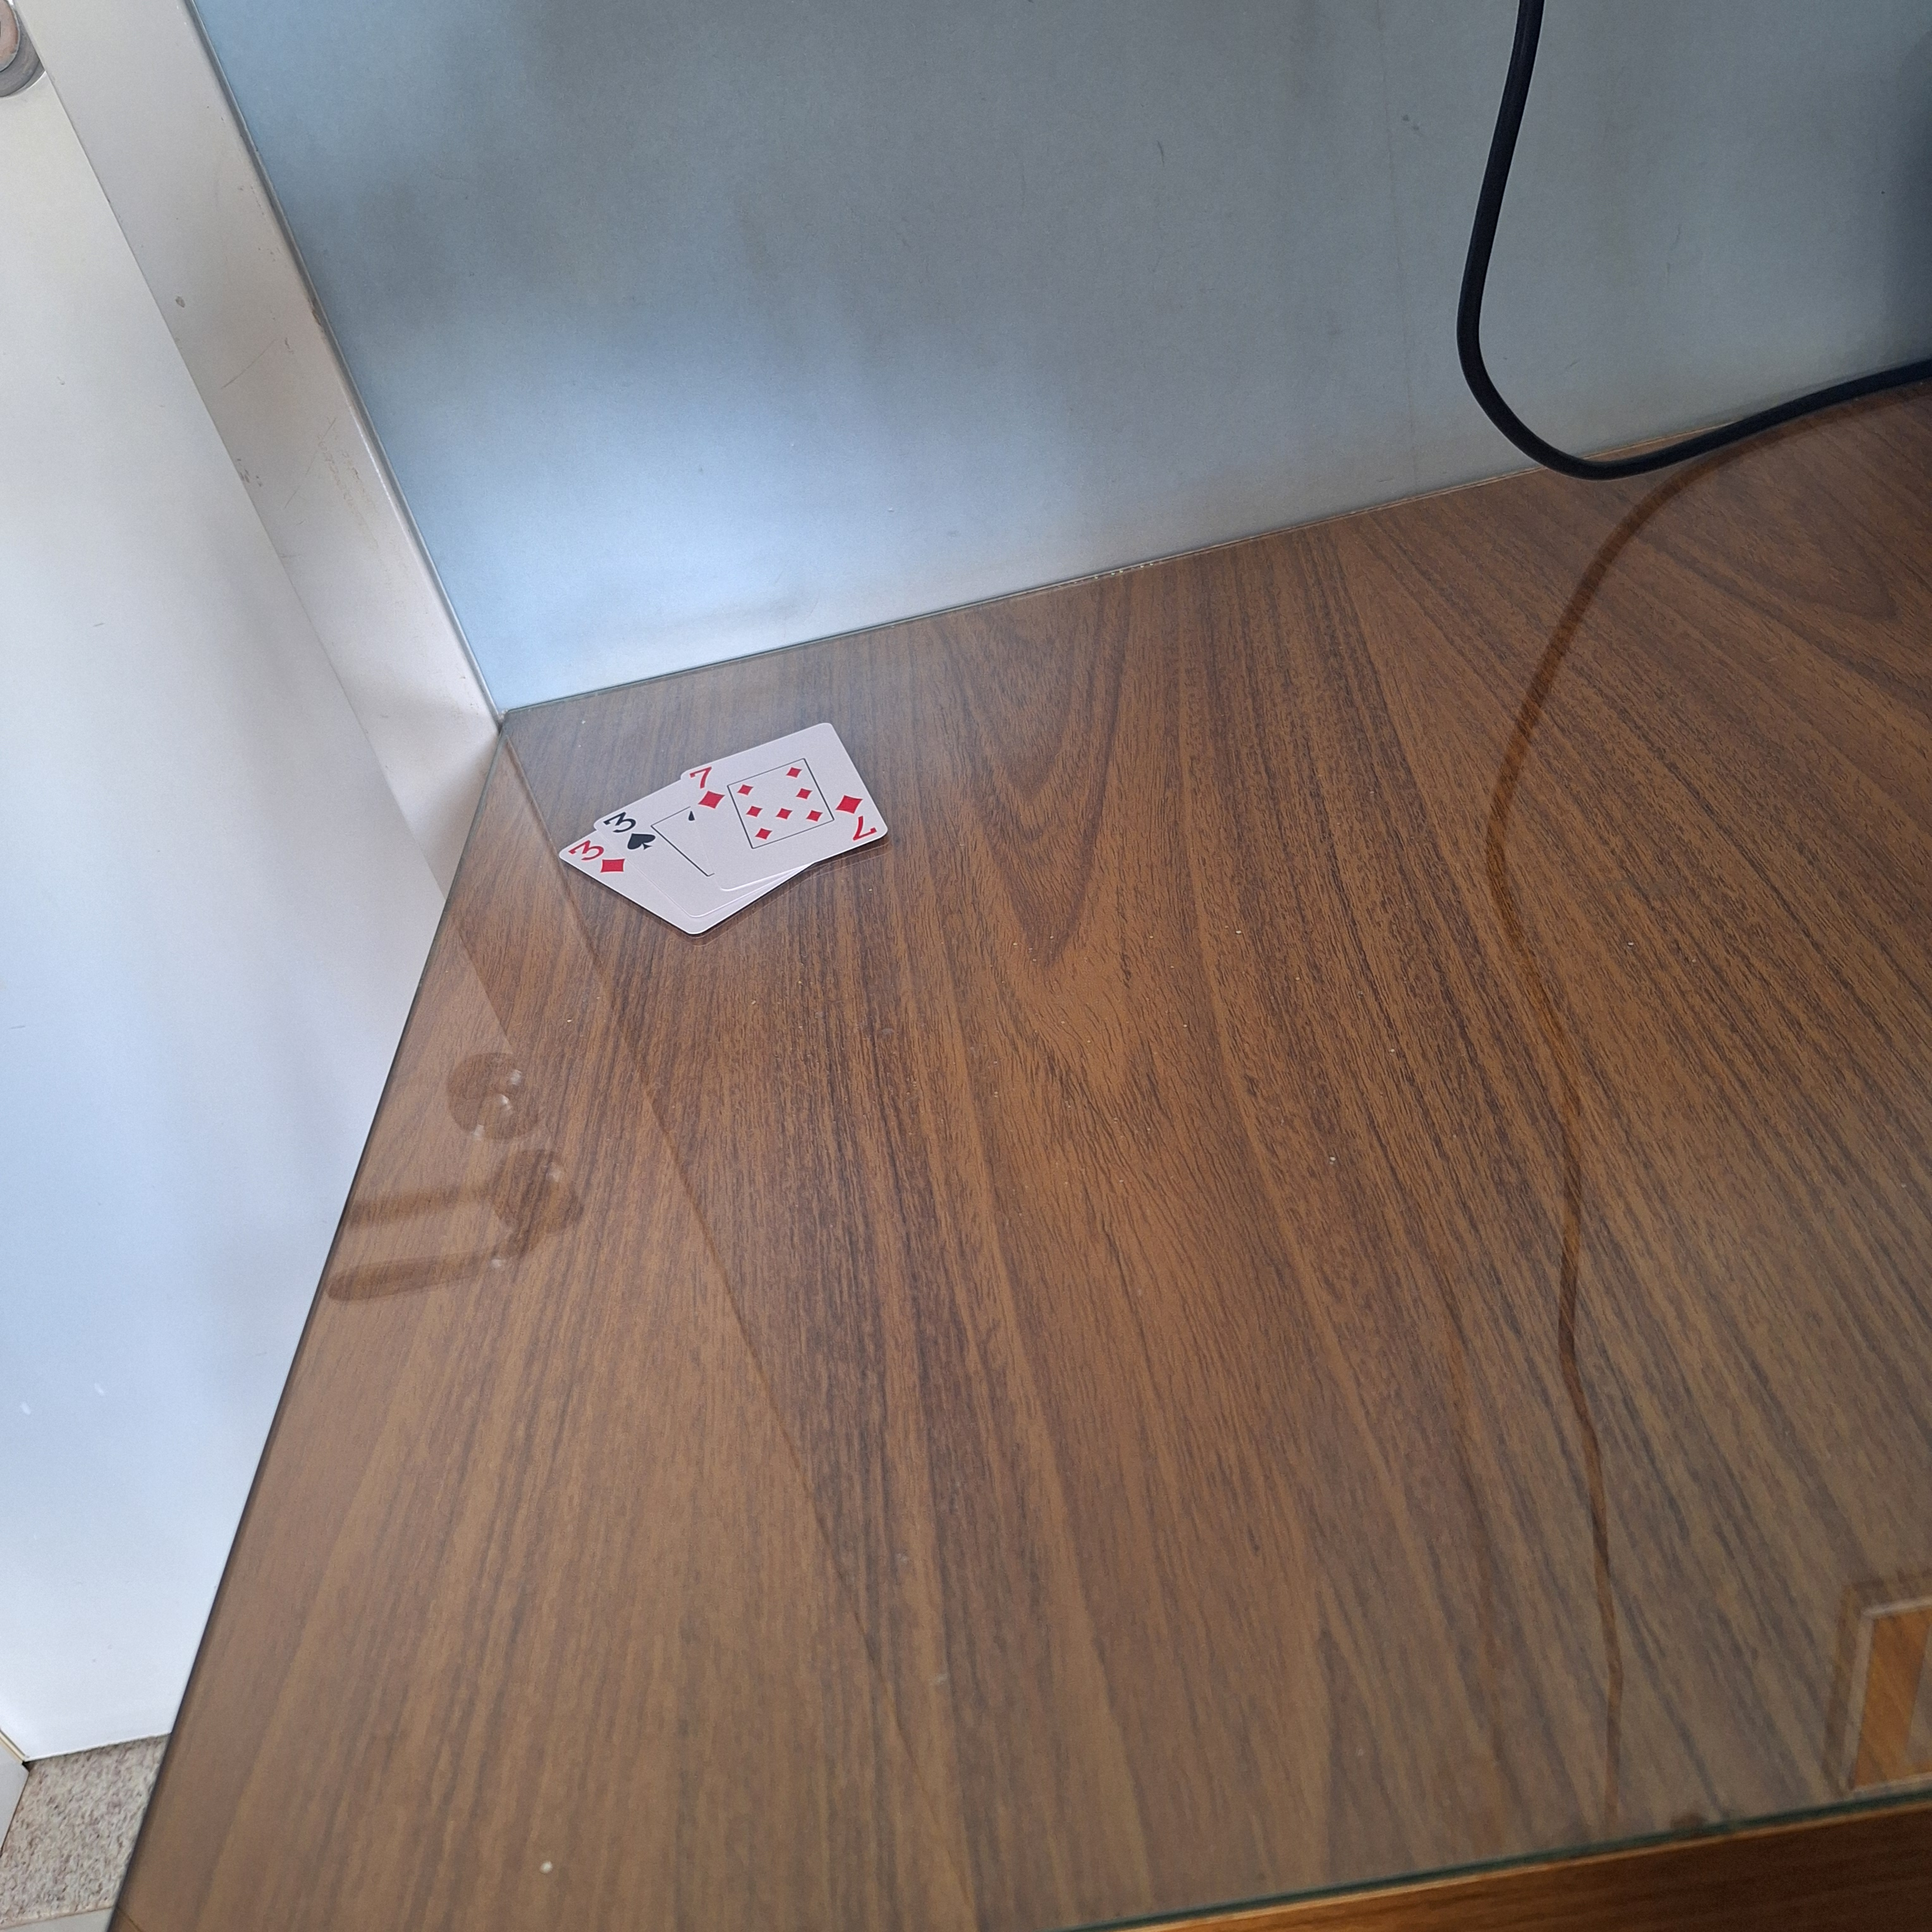3E: (602, 807, 660, 853)
3O: (564, 833, 628, 878)
7O: (833, 787, 881, 846), (685, 763, 731, 814)
